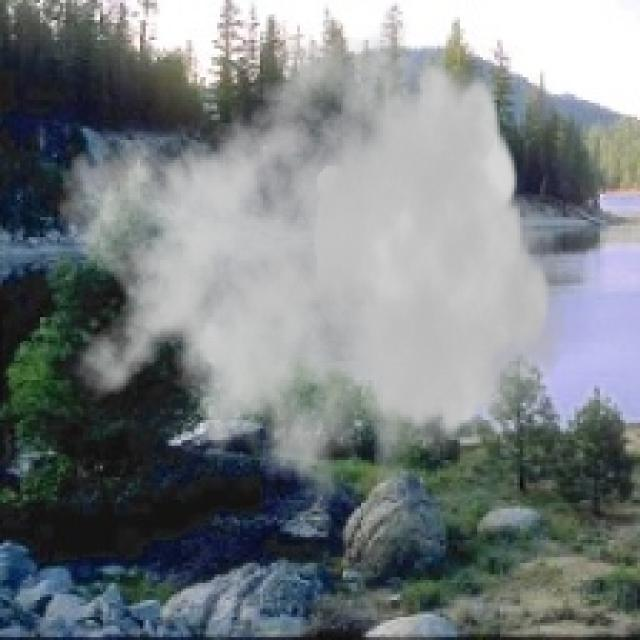Smoke: (54, 8, 569, 540)
